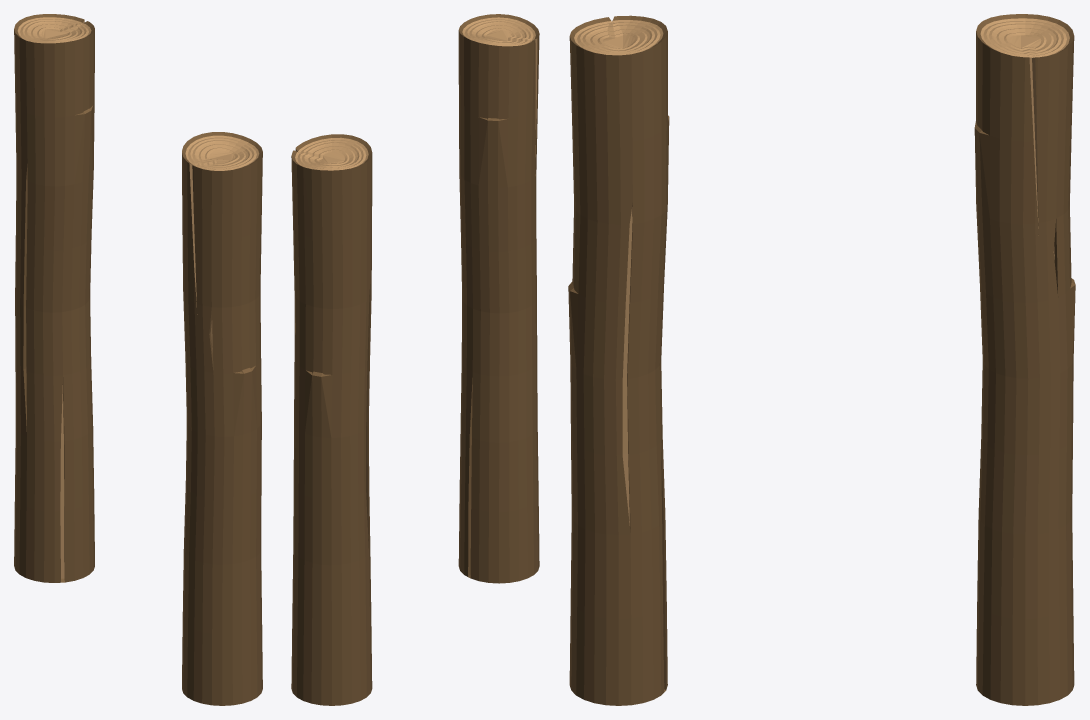
Rendered from Dock 1.fbx.
3 renders of one model, left to right at view 1: azimuth 30°, elevation 25°; view 2: azimuth 150°, elevation 25°; view 3: azimuth 270°, elevation 25°, orthographic. The views are drawn at different scales.
Parts seen in each view (by area): view 1: Dock 1; view 2: Dock 1; view 3: Dock 1.
Boxes of the visible parts, bbox=[...] form: Dock 1: bbox=[14, 14, 262, 705]; Dock 1: bbox=[291, 14, 539, 705]; Dock 1: bbox=[568, 14, 1075, 705].
Bounding box in the file's own units: 0.5891 × 4.33 × 3.04.
